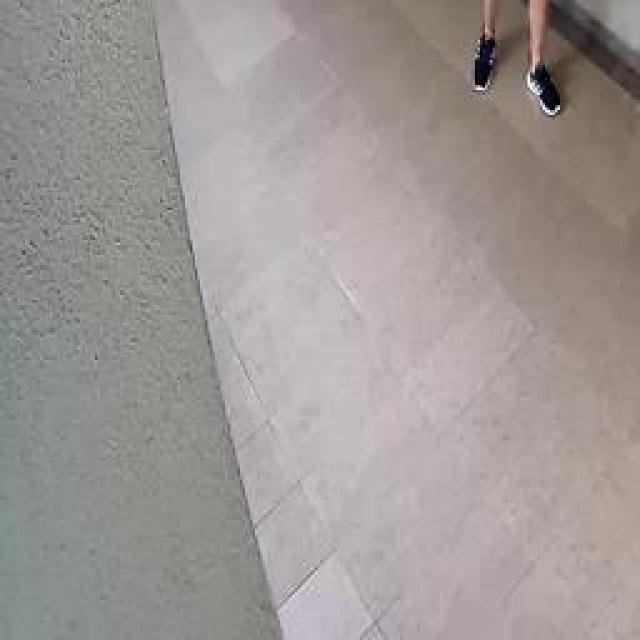Guns: (635, 85, 640, 210)
